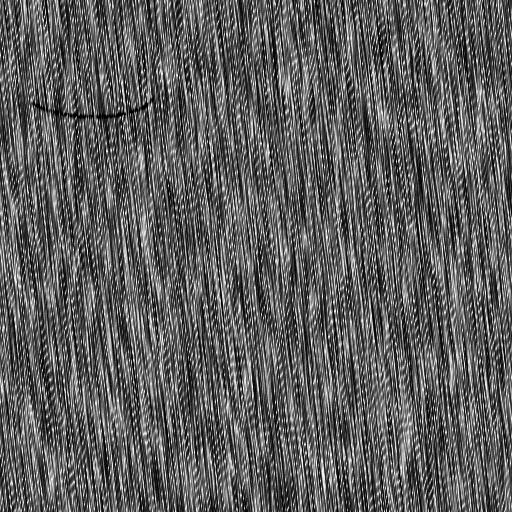DefectTypeC: (29, 98, 159, 121)
